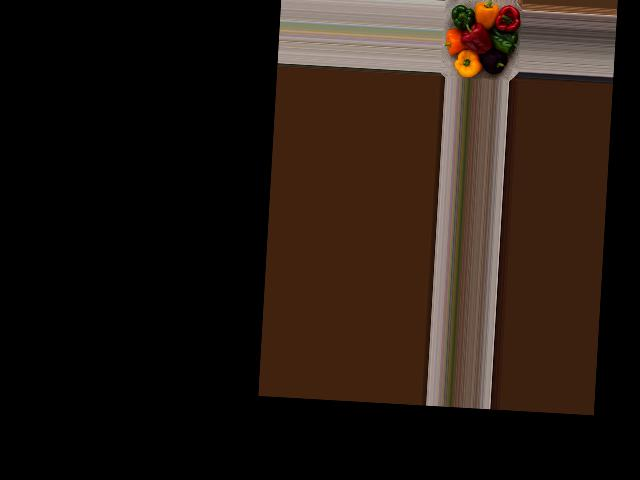bell_pepper: (478, 42, 515, 74)
